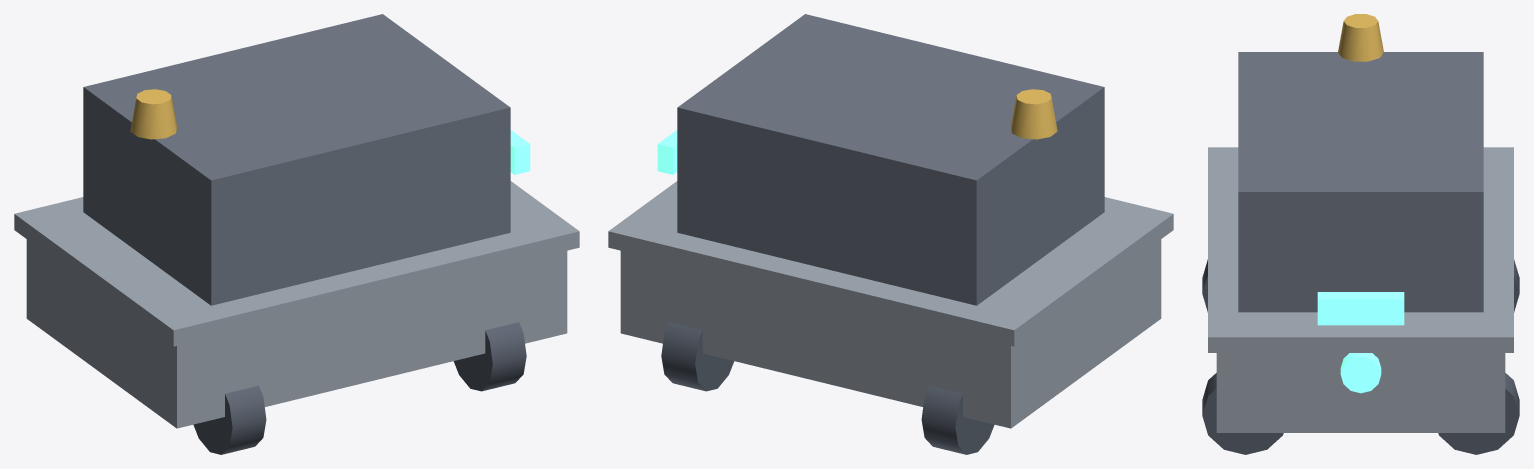
The model's file is agv.glb.
3 views of the same model, side by side, from view 1: azimuth 30°, elevation 25°; view 2: azimuth 150°, elevation 25°; view 3: azimuth 270°, elevation 25° (orthographic). The views are drawn at different scales.
Visible parts, largest first — view 1: Cargo, Chassis, Wheels, Beacon, Sensor; view 2: Cargo, Chassis, Wheels, Beacon, Sensor; view 3: Cargo, Chassis, Sensor, Wheels, Beacon.
Boxes of the visible parts, left/top/right/bottom form: Cargo: left=83, top=14, right=510, bottom=305; Chassis: left=14, top=181, right=579, bottom=428; Wheels: left=193, top=322, right=526, bottom=454; Beacon: left=130, top=89, right=177, bottom=139; Sensor: left=510, top=130, right=530, bottom=174; Cargo: left=677, top=14, right=1104, bottom=305; Chassis: left=608, top=181, right=1173, bottom=428; Wheels: left=661, top=322, right=994, bottom=454; Beacon: left=1010, top=89, right=1057, bottom=139; Sensor: left=657, top=130, right=677, bottom=174; Cargo: left=1238, top=52, right=1483, bottom=312; Chassis: left=1208, top=147, right=1513, bottom=432; Sensor: left=1317, top=292, right=1404, bottom=393; Wheels: left=1202, top=259, right=1519, bottom=454; Beacon: left=1338, top=14, right=1383, bottom=61.
Size of the model in its own units: 1.59 by 1.14 by 1.1.
